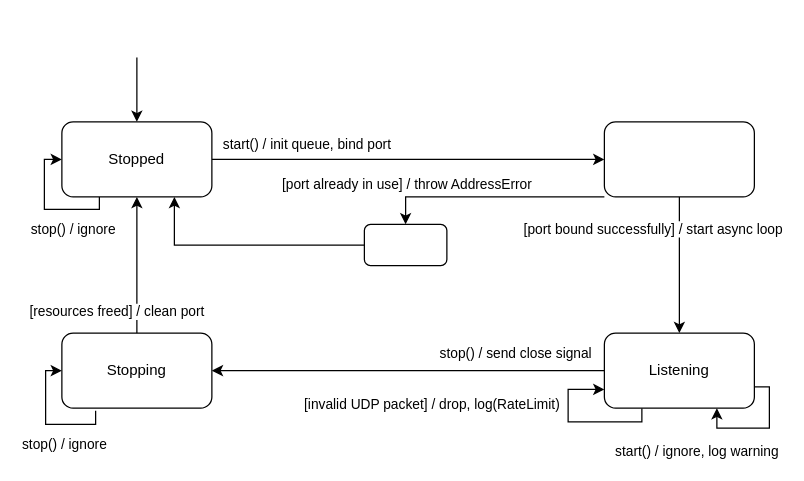
The diagram is 804 pixels wide and 481 high, and some of its shapes have lost their labels. Each missing label, with the box of its shape:
Error: (363, 223, 447, 266)
Starting: (603, 121, 754, 197)
